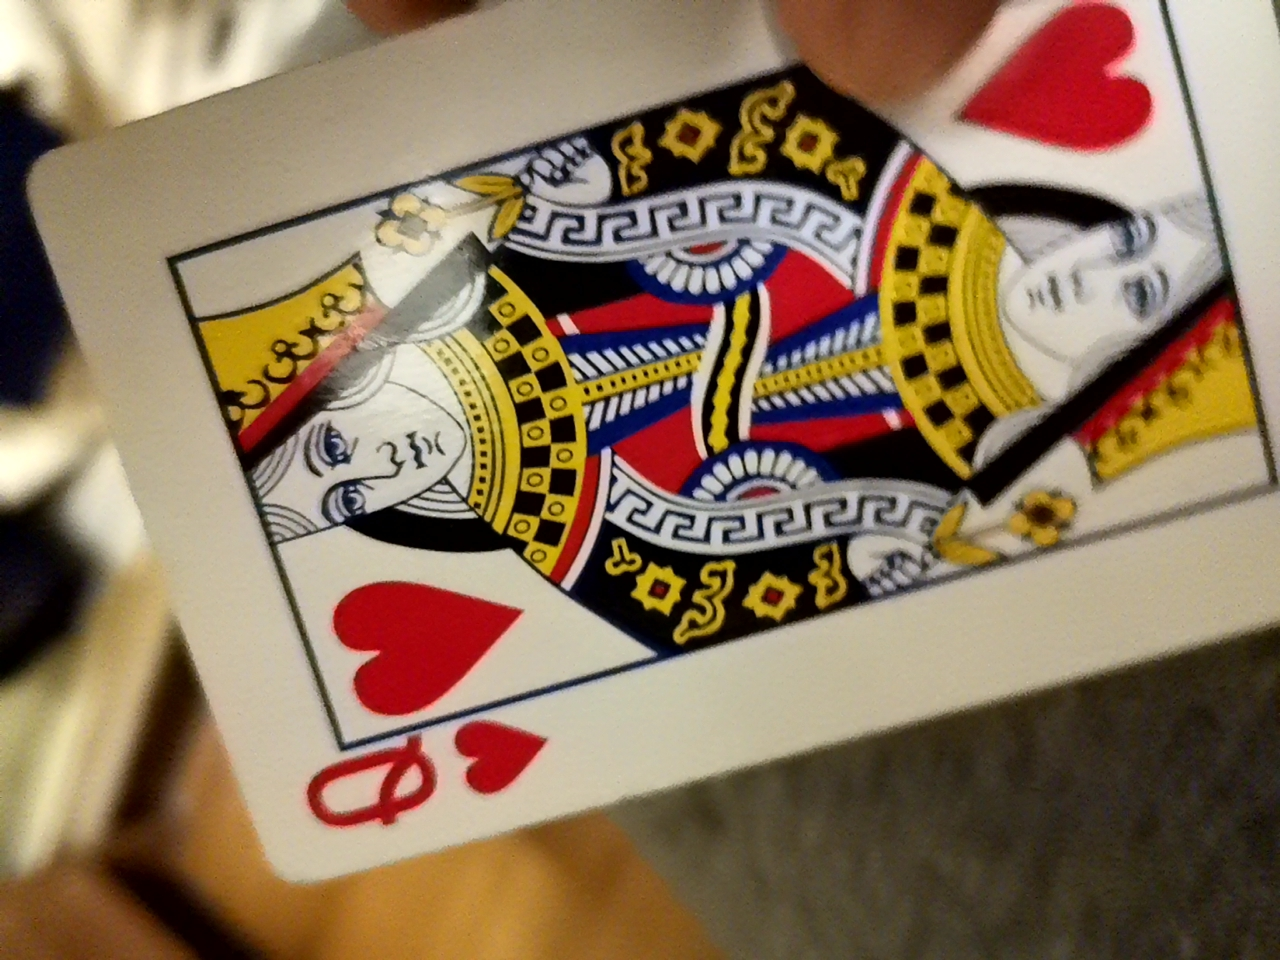hx q: (81, 7, 1270, 889)
